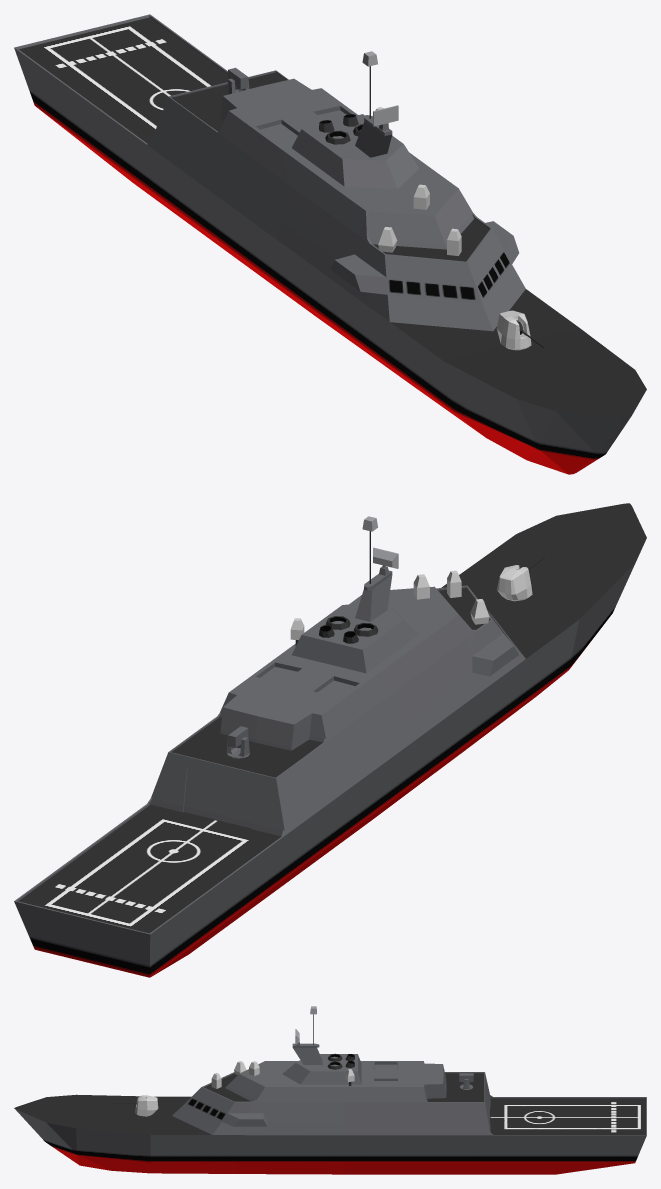
3 renders of one model, top to bottom at view 1: azimuth 30°, elevation 25°; view 2: azimuth 150°, elevation 25°; view 3: azimuth 270°, elevation 25°, orthographic. The views are drawn at different scales.
Visible parts, largest first — view 1: Cube.016, Circle.009; view 2: Cube.016, Cube.019, Circle.009; view 3: Cube.016, Circle.009.
Part boxes in pixels (<box>): Cube.016: <box>14,14,646,474</box>; Circle.009: <box>496,310,531,350</box>; Cube.016: <box>14,503,646,977</box>; Cube.019: <box>183,767,255,828</box>; Circle.009: <box>496,565,532,601</box>; Cube.016: <box>14,1006,646,1174</box>; Circle.009: <box>135,1095,158,1116</box>.
Bounding box in the file's own units: 1954 × 3269 × 11664.
